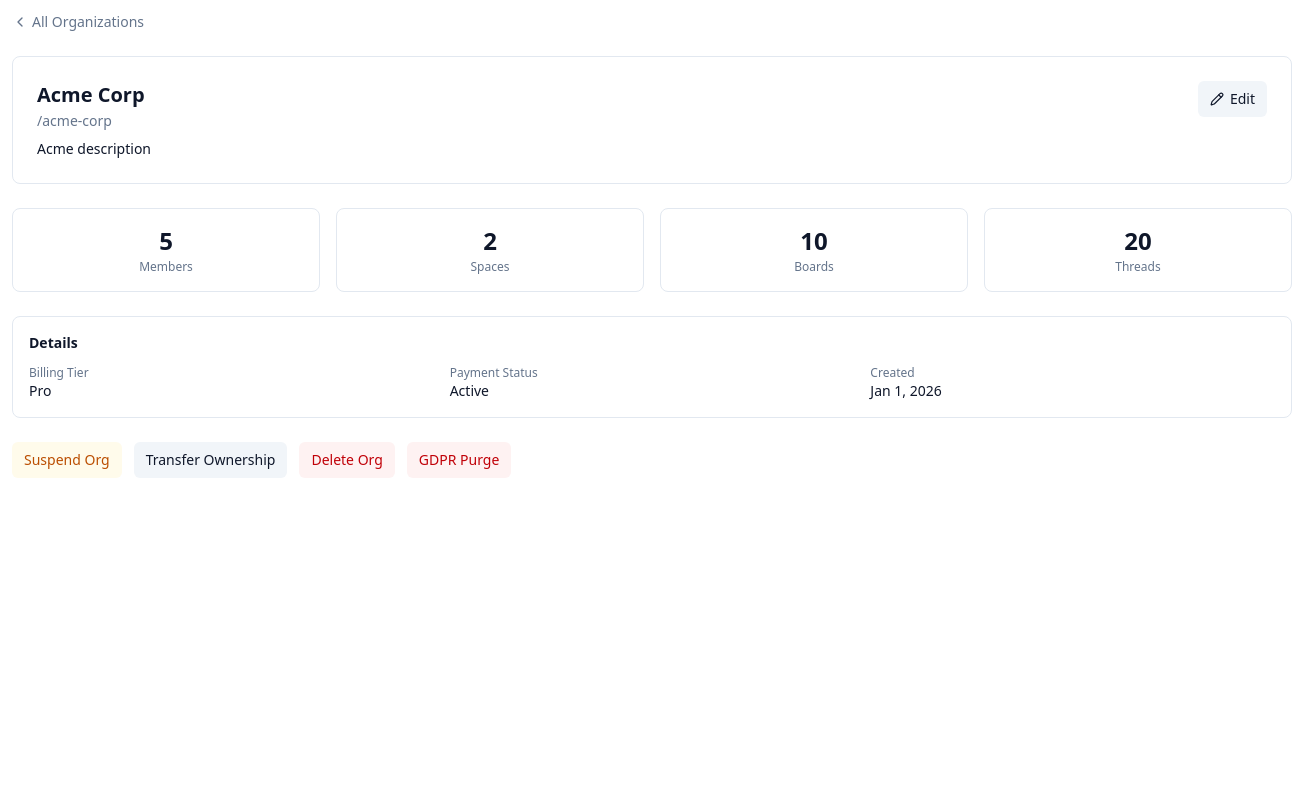
Test: OrgDetailAdmin › shows edit form on Edit button click
Click the button with test id "edit-org-btn". click: (1232, 99)
box: 1198,81 -> 1267,117
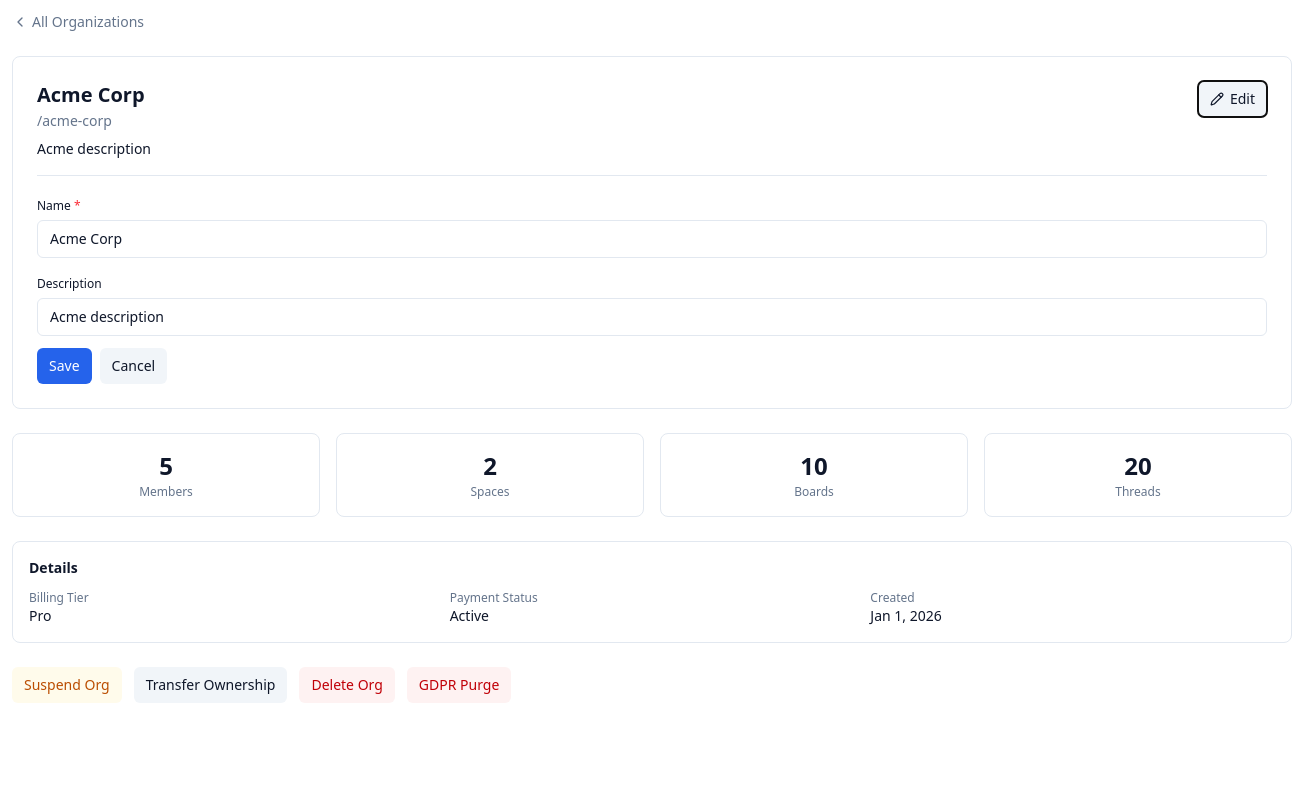
Now the element with test id "edit-org-form" is shown, box 37,175 -> 1267,384
